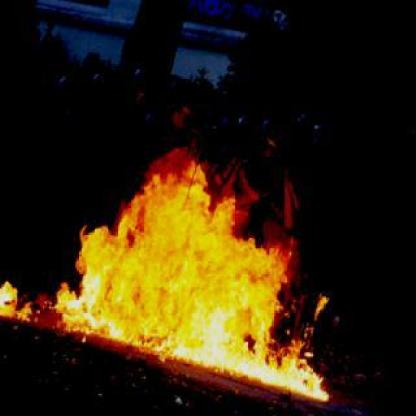Fire: (0, 150, 339, 416)
